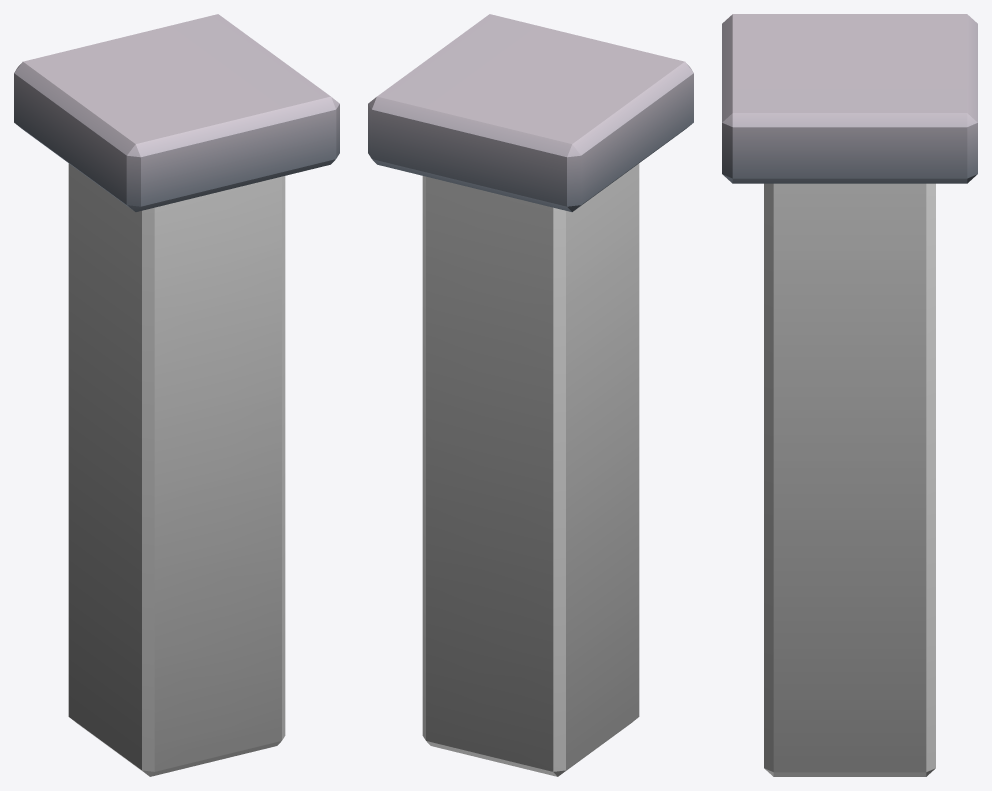
The model's file is lpb_fence_8.fbx.
3 views of the same model, side by side, from view 1: azimuth 30°, elevation 25°; view 2: azimuth 150°, elevation 25°; view 3: azimuth 270°, elevation 25° (orthographic). The views are drawn at different scales.
Visible parts, largest first — view 1: fence8; view 2: fence8; view 3: fence8.
Part boxes in pixels (left/top/right/bottom): fence8: left=14, top=14, right=339, bottom=776; fence8: left=368, top=14, right=693, bottom=776; fence8: left=722, top=14, right=977, bottom=776.
Bounding box in the file's own units: 113 × 333 × 113.
